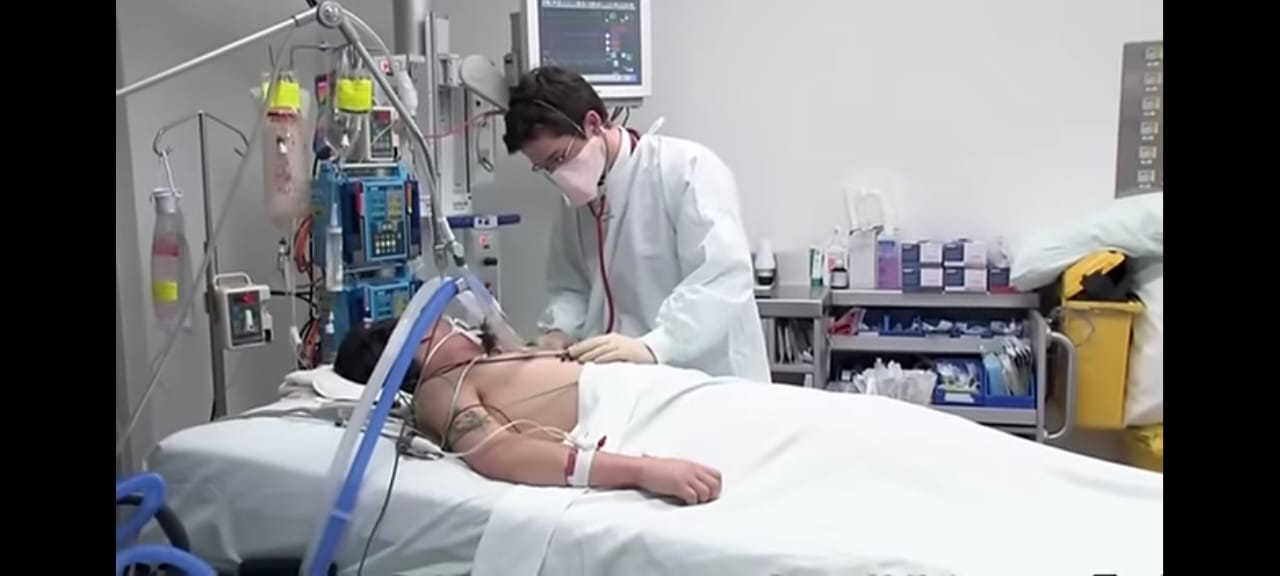doctor: (484, 64, 776, 384)
patient: (326, 312, 1153, 562)
